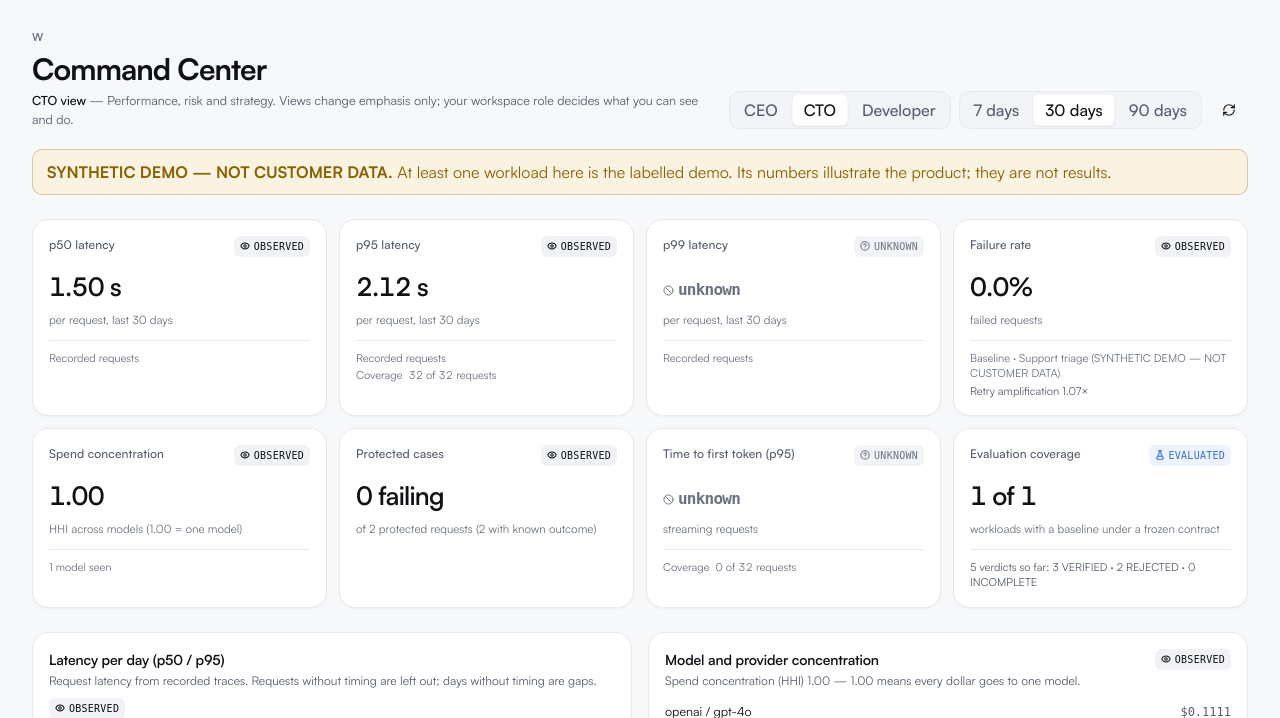
Scenario: Command Center › CEO view keeps evaluated, projected and realized apart; realized is NOT YET MEASURED
Click the radio button labelled "CEO" at [761, 110], box [732,94,790,126]
(page scrolled)
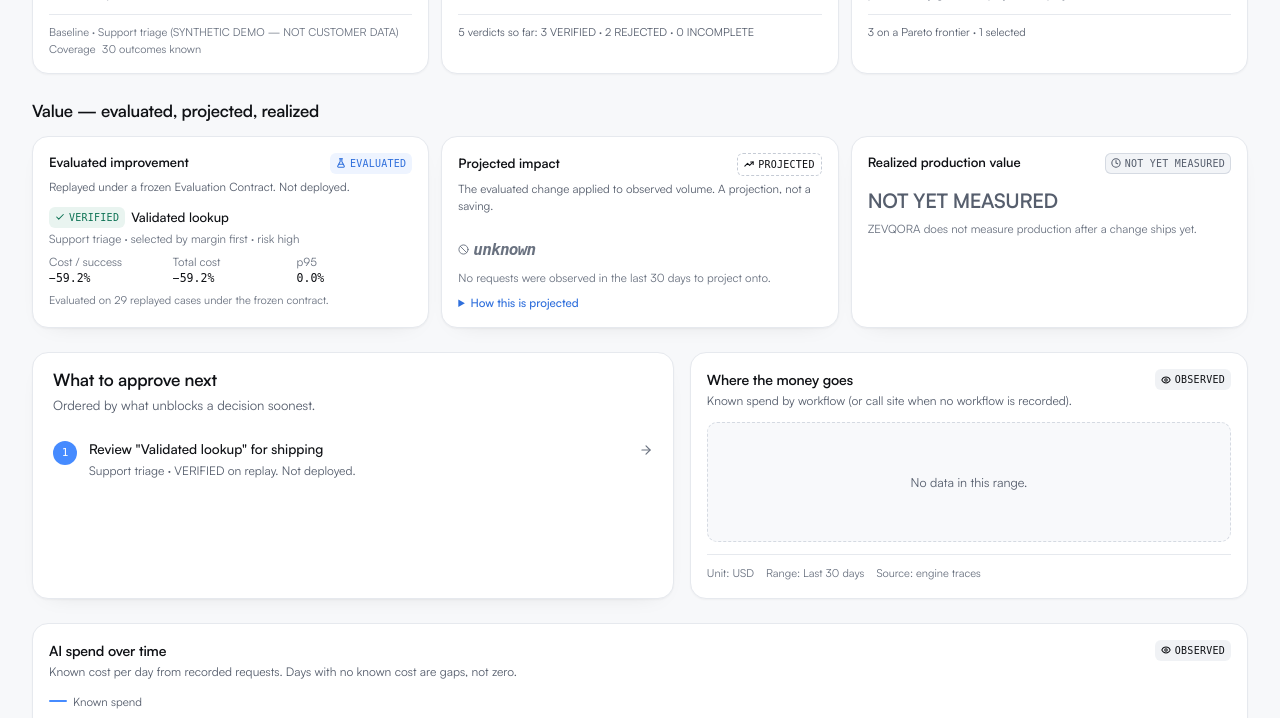
Check: the heading "Evaluated improvement" is shown, box [49,153,189,173]
Check: the heading "Projected impact" is shown, box [458,154,560,174]
Check: the heading "Realized production value" is shown, box [868,153,1021,173]
